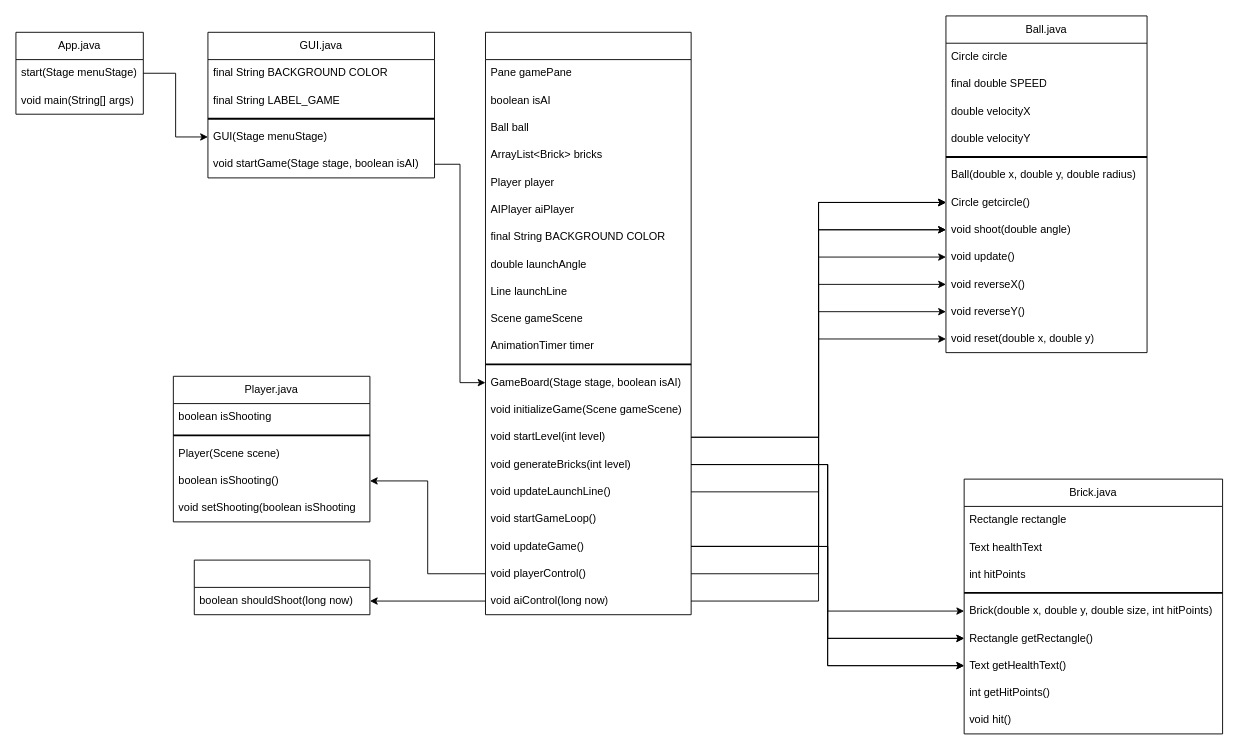
Some shapes in this 1239 by 750 pixel diagram are drawn without their labels. The box of each missing label's shape, as (x1, y1, x2, y2) in pixels:
AIPlayer.java: (193, 559, 370, 615)
GameBoard.java: (485, 31, 691, 615)
